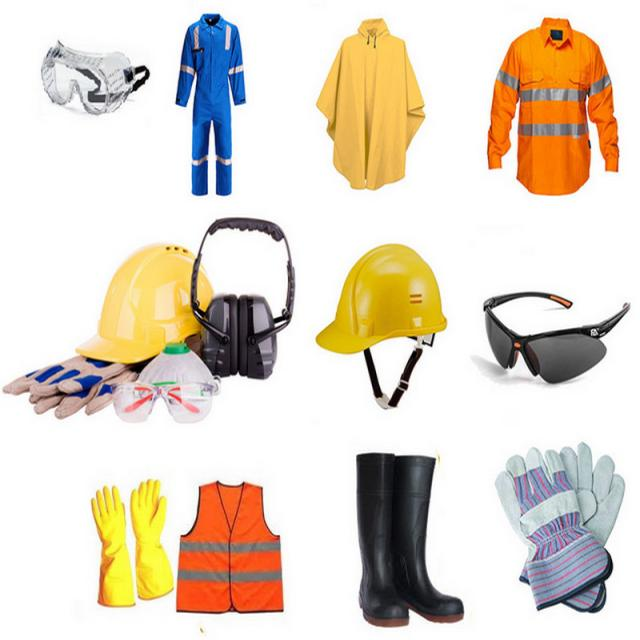glasses: (37, 31, 152, 125), (111, 372, 218, 428)
